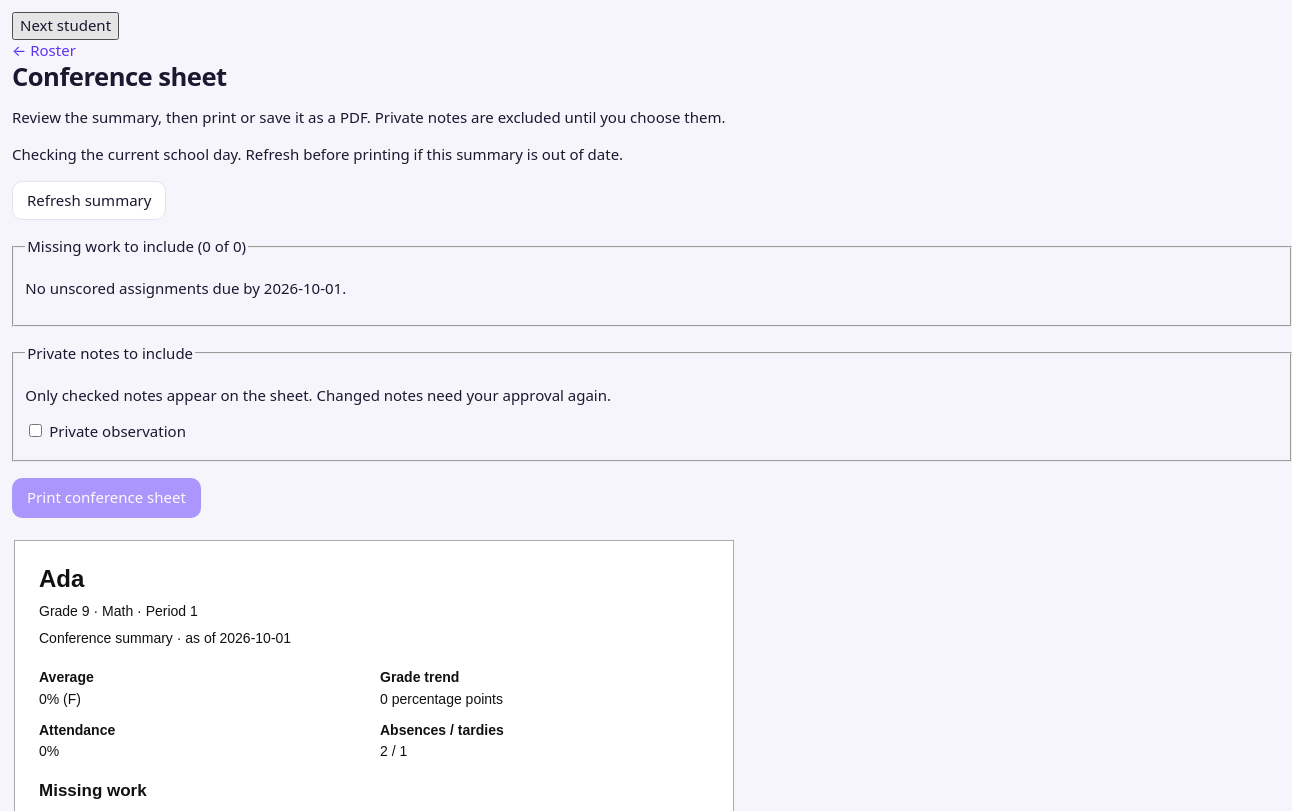
Scenario: blocks stale school-day data until current refresh
This screenshot has width=1292, height=811.
Check: the button "Print conference sheet" is disabled, box [12,478,201,518]
Step 1. Click the button "Refresh summary" → (89, 201), box [12,181,166,220]
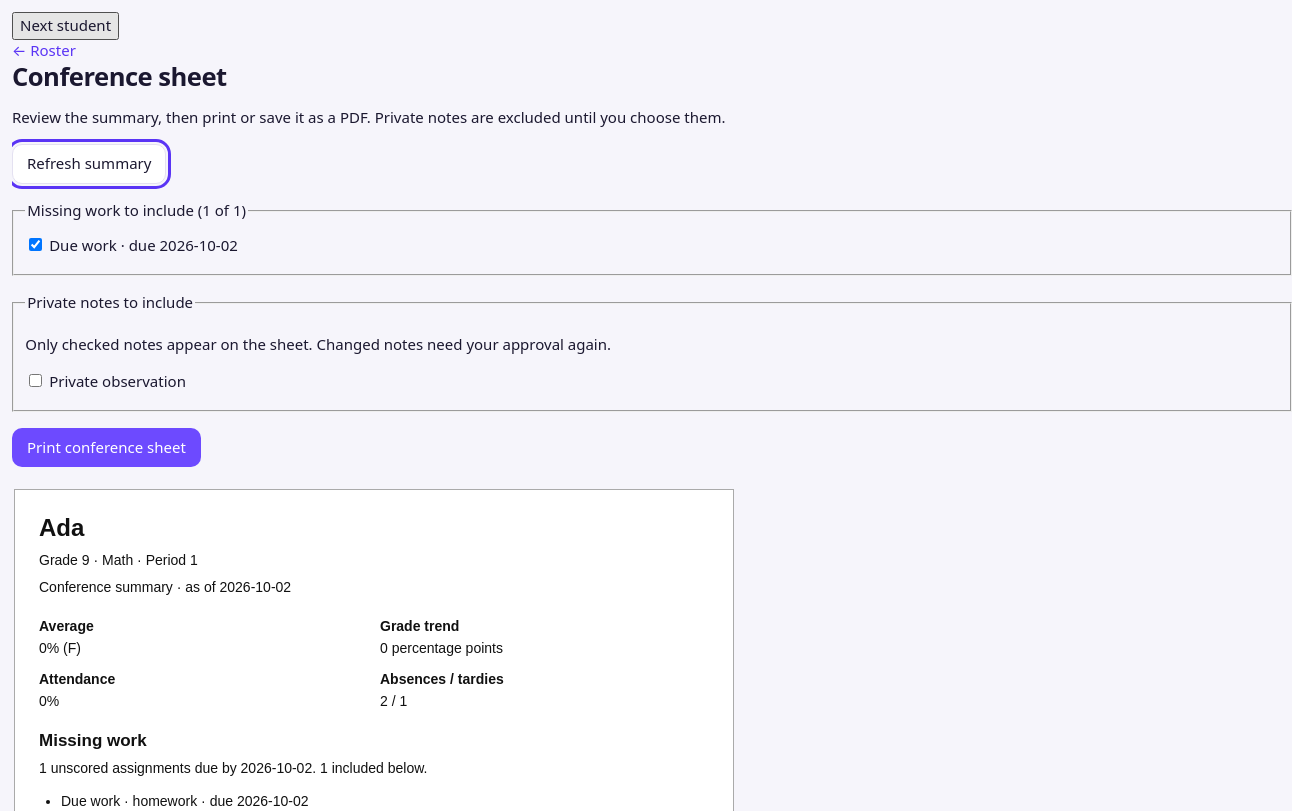
Check: the button "Print conference sheet" is enabled, box [12,428,201,468]
